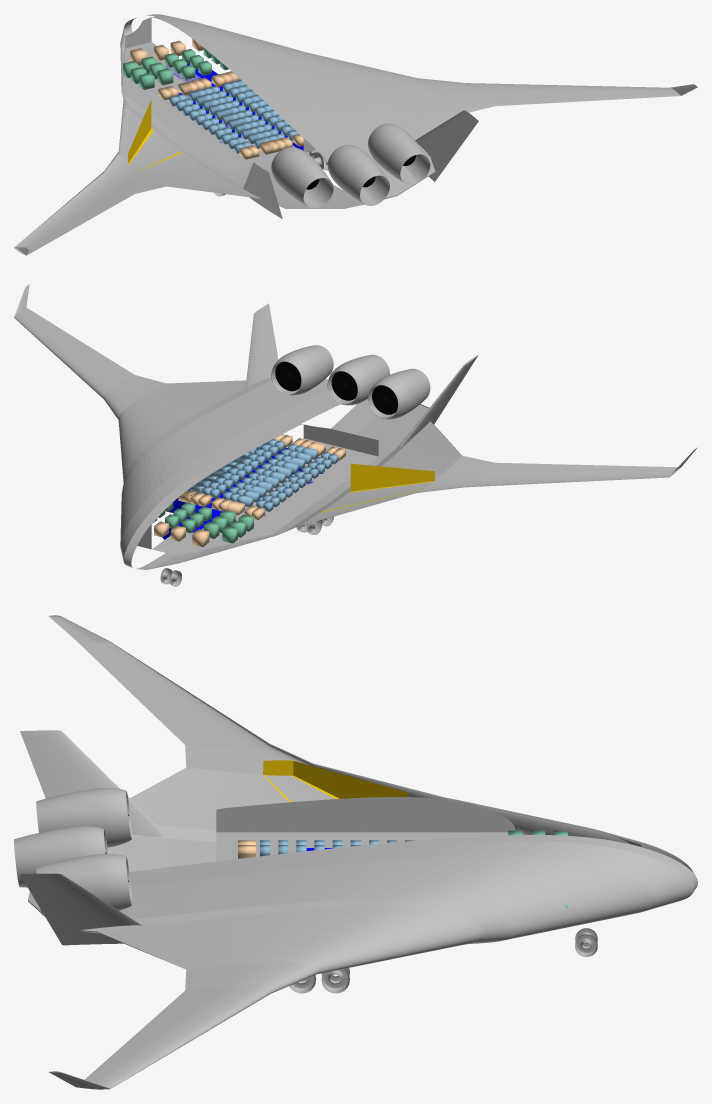
Rendered from BWB.gltf.
3 views of the same model, one above another, from view 1: azimuth 30°, elevation 25°; view 2: azimuth 150°, elevation 25°; view 3: azimuth 270°, elevation 25° (orthographic). The views are drawn at different scales.
Parts seen in each view (by area): view 1: Renderer Node; view 2: Renderer Node; view 3: Renderer Node.
Boxes of the visible parts, x1,y1,x2,y2 form: Renderer Node: (14,14,697,255); Renderer Node: (14,284,697,586); Renderer Node: (14,615,697,1089).
Bounding box in the file's own units: 48.37 × 7.56 × 30.67.
